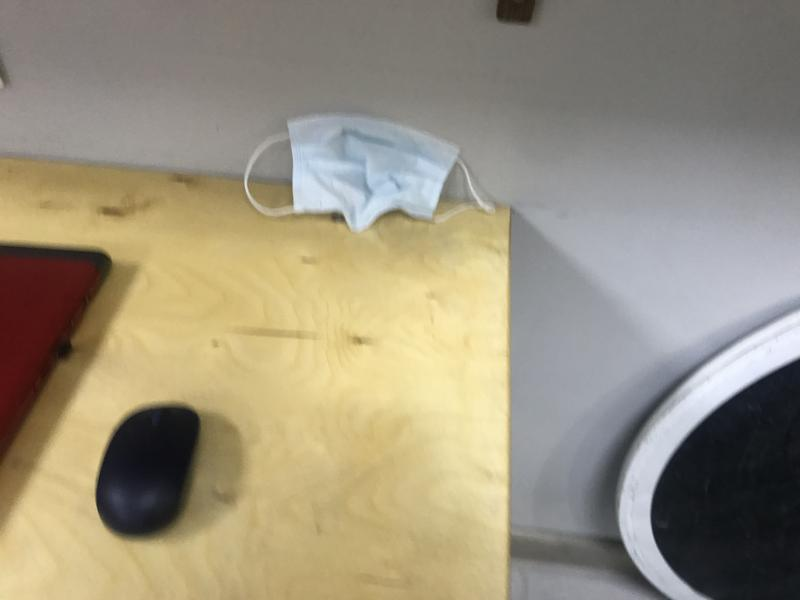medical_mask: (245, 113, 495, 232)
